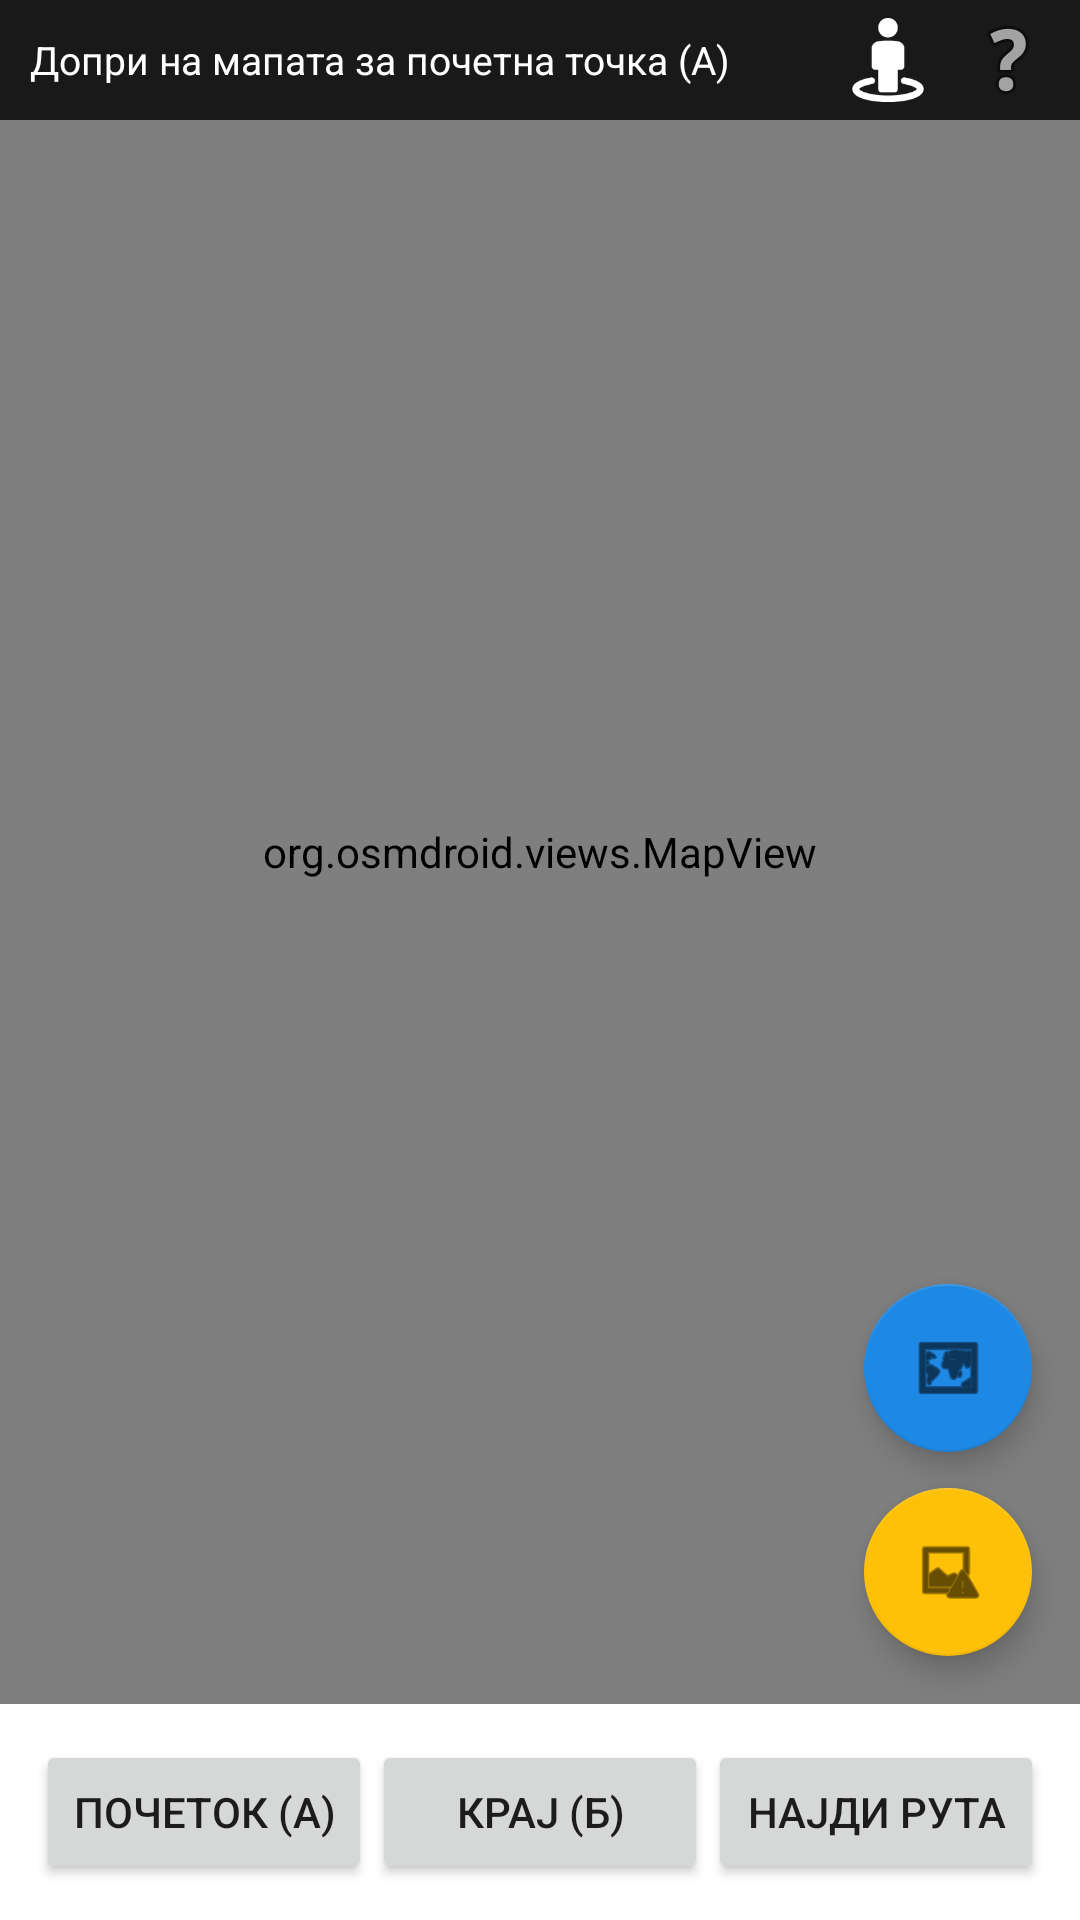

Where icons sit on this 1080px x 1920px app screen, as (x1, y1, x2, y2):
Мој тип на мобилност: (852, 18, 924, 102)
Помош: (990, 29, 1026, 91)
Пријави пречка: (864, 1488, 1032, 1656)
